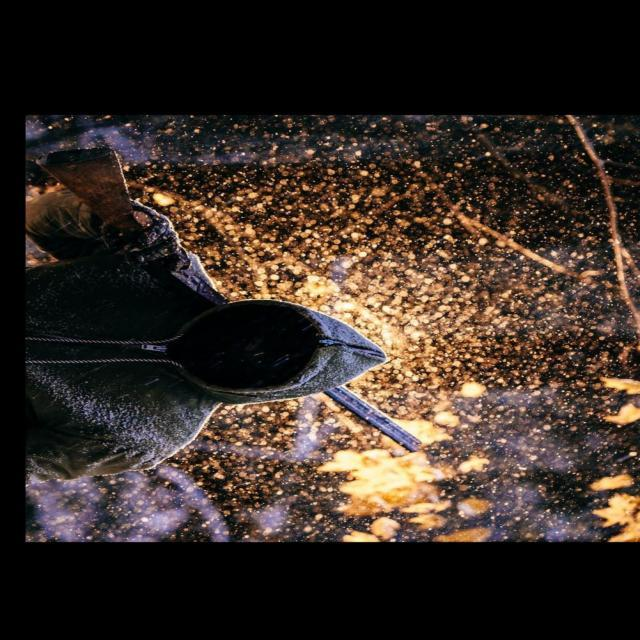weapon: (39, 147, 424, 452)
